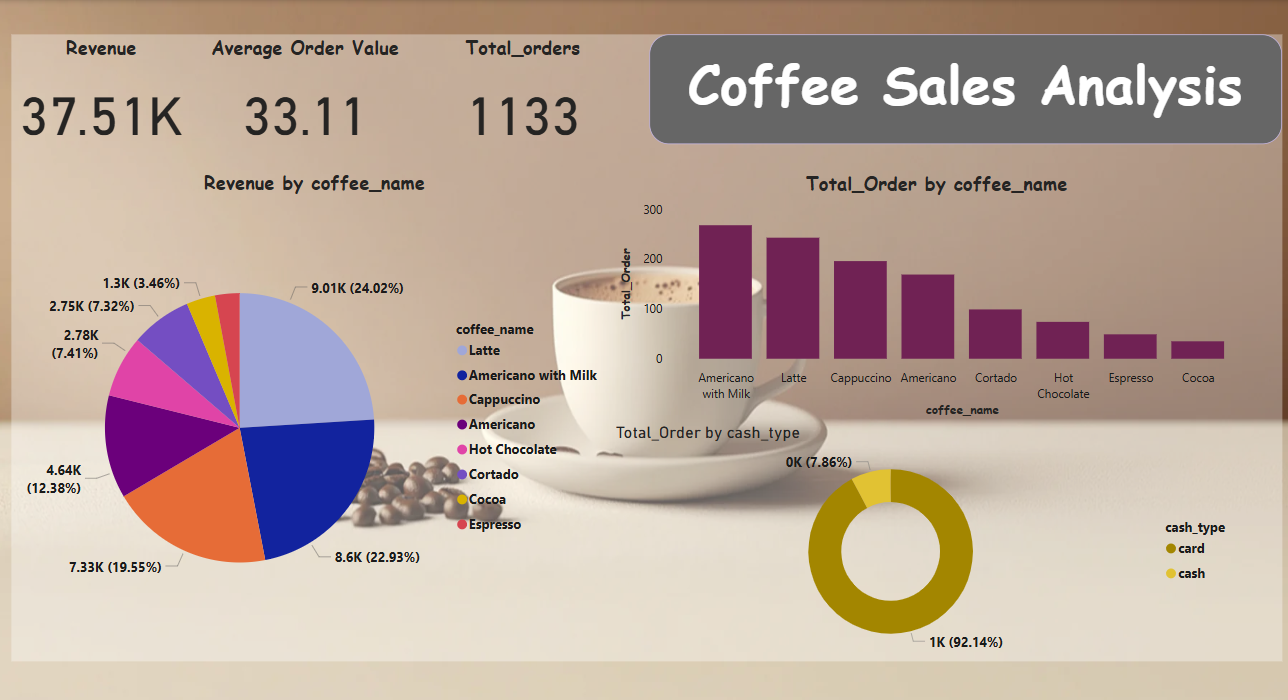

The page's visual inventory and layout, read from the dashboard file:
{"tool":"powerbi","page":{"name":"Page 2","canvas":[1320,720],"ordinal":1},"visuals":[{"type":"card","title":"Revenue","fields":{"Values":["Imp measure.Revenue"]},"box":[12.6,35.1,183.2,126.6],"z":0,"group":"g1"},{"type":"card","title":"Total_orders","fields":{"Values":["Imp measure.Total_Order"]},"box":[427.4,35.1,213.1,126.6],"z":1000,"group":"g1"},{"type":"donutChart","fields":{"Category":["coffee_sales coffee.cash_type"],"Y":["Imp measure.Total_Order"]},"box":[624.4,430.4,653.4,244],"z":1000,"group":"g1"},{"type":"card","title":"Average Order Value","fields":{"Values":["Imp measure.Average Order Value"]},"box":[195.8,35.1,231.5,126.6],"z":2000,"group":"g1"},{"type":"pieChart","fields":{"Category":["coffee_sales coffee.coffee_name"],"Y":["Imp measure.Revenue"]},"box":[20.1,172.4,604.3,501.9],"z":4000,"group":"g1"},{"type":"columnChart","fields":{"Category":["coffee_sales coffee.coffee_name"],"Y":["Imp measure.Total_Order"]},"box":[630,173.8,653.4,256.6],"z":5000,"group":"g1"},{"type":"textbox","box":[663.2,35.1,644.9,111.8],"z":6000,"group":"g1"},{"type":"group","id":"g1","title":"Group 1","box":[12.6,35.1,1295.5,639.3],"z":6001}]}

Visuals, with their boxes in screenshot pixels (x1, y1, x2, y2), scaled from the page's 1320x720 canvas onto the 1288x700 screenshot:
"Revenue" card: locate(12, 34, 191, 157)
"Total_orders" card: locate(417, 34, 625, 157)
donutChart - coffee_sales coffee.cash_type x Imp measure.Total_Order: locate(609, 418, 1247, 656)
"Average Order Value" card: locate(191, 34, 417, 157)
pieChart - coffee_sales coffee.coffee_name x Imp measure.Revenue: locate(20, 168, 609, 656)
columnChart - coffee_sales coffee.coffee_name x Imp measure.Total_Order: locate(615, 169, 1252, 418)
textbox: locate(647, 34, 1276, 143)
"Group 1" group: locate(12, 34, 1276, 656)
